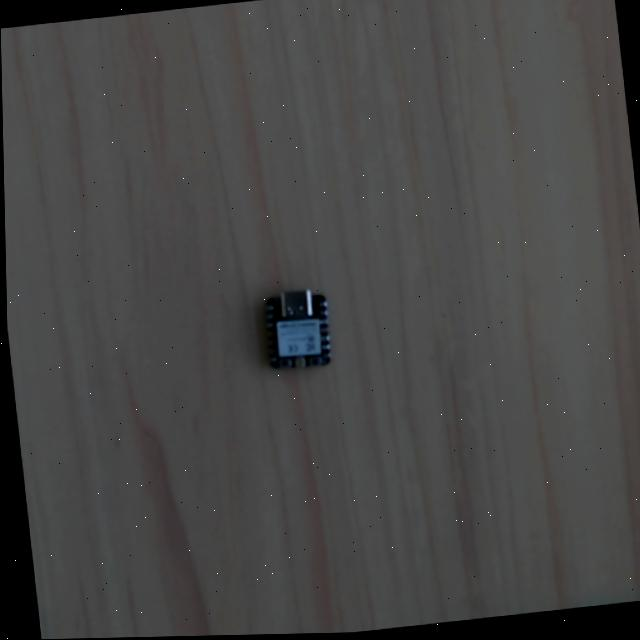ESP32C3-Xiao: (262, 286, 332, 368)
